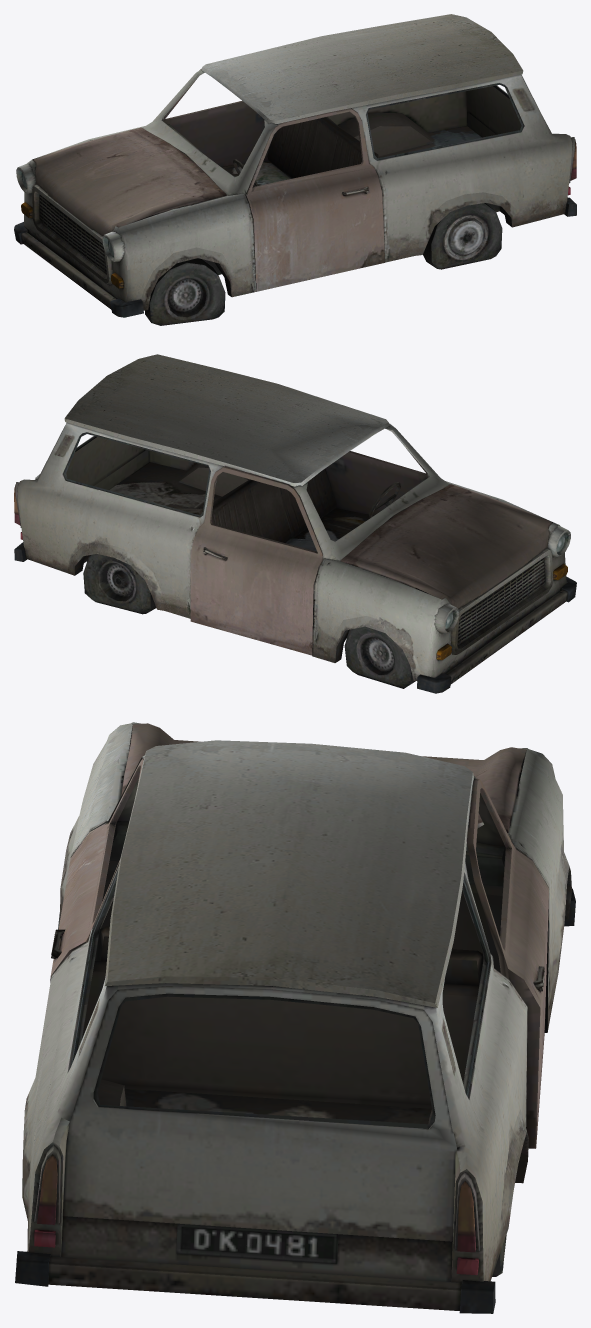
File: white_car3.fbx
3 renders of one model, top to bottom at view 1: azimuth 30°, elevation 25°; view 2: azimuth 150°, elevation 25°; view 3: azimuth 270°, elevation 25°, orthographic. The views are drawn at different scales.
Visible parts, largest first — view 1: white_car3.001; view 2: white_car3.001; view 3: white_car3.001.
Boxes of the visible parts, box(x1,y1,x2,y2) form: white_car3.001: box(14, 14, 576, 325); white_car3.001: box(14, 354, 576, 693); white_car3.001: box(15, 722, 575, 1313).
Size of the model in its own units: 3.97 by 1.45 by 2.09.
1 material, 1 textured.
